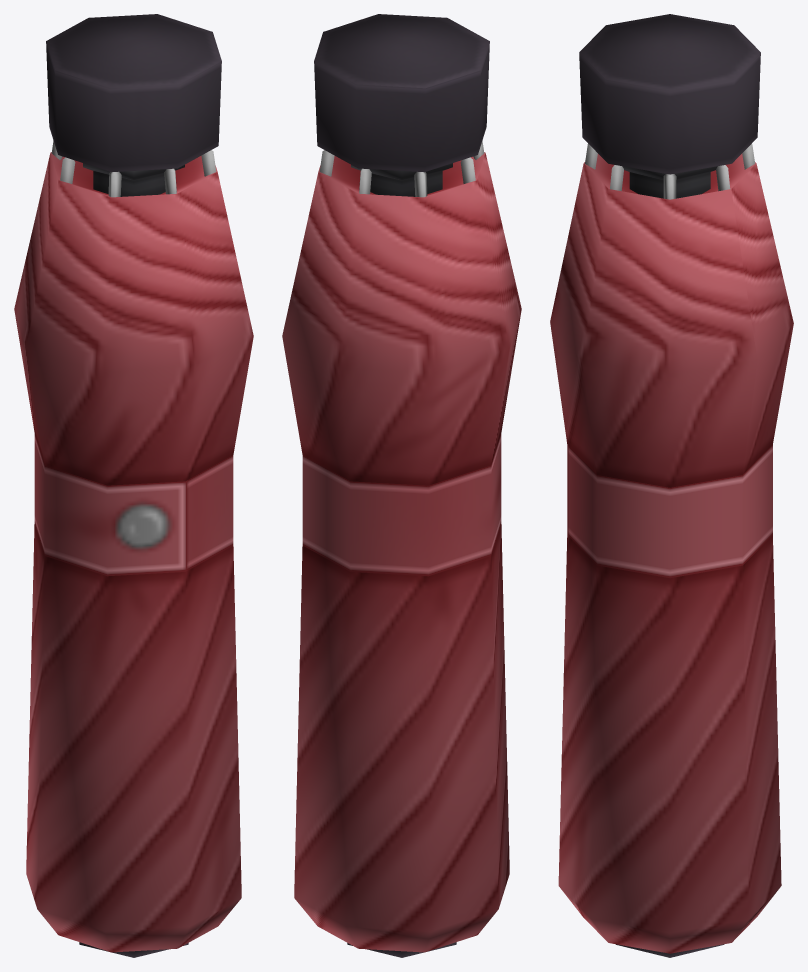
File: set_foldingumbrella_01.fbx
3 views of the same model, side by side, from view 1: azimuth 30°, elevation 25°; view 2: azimuth 150°, elevation 25°; view 3: azimuth 270°, elevation 25° (orthographic).
Visible parts, largest first — view 1: foldingumbrella_01, handle_01; view 2: foldingumbrella_01, handle_01; view 3: foldingumbrella_01, handle_01.
Part boxes in pixels (box(x1,y1,x2,y2)): foldingumbrella_01: box(14, 140, 253, 957); handle_01: box(46, 14, 221, 172); foldingumbrella_01: box(282, 140, 521, 957); handle_01: box(314, 14, 489, 172); foldingumbrella_01: box(550, 143, 793, 957); handle_01: box(579, 14, 760, 174).
Bounding box in the file's own units: 5.4 × 21.37 × 5.31.
